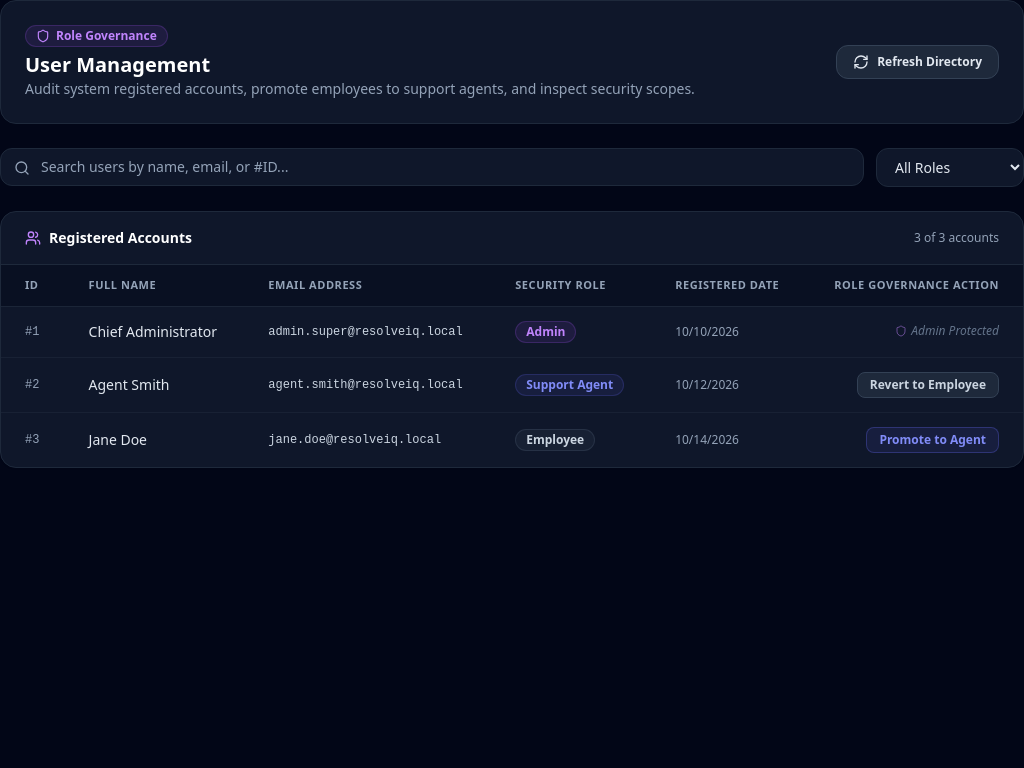
Scenario: ResolveIQ Batch 10 — Admin Dashboard & Operations Management › Phase 2 — User Management & Safe Role Governance › handles server rejection when updating role without mutating client state
The width and height of the screenshot is (1024, 768).
Check: the text "Jane Doe" is shown, box [65, 412, 244, 466]
Click "Promote to Agent"
Click the button "Promote to Agent" at (933, 440), box [866, 426, 999, 452]
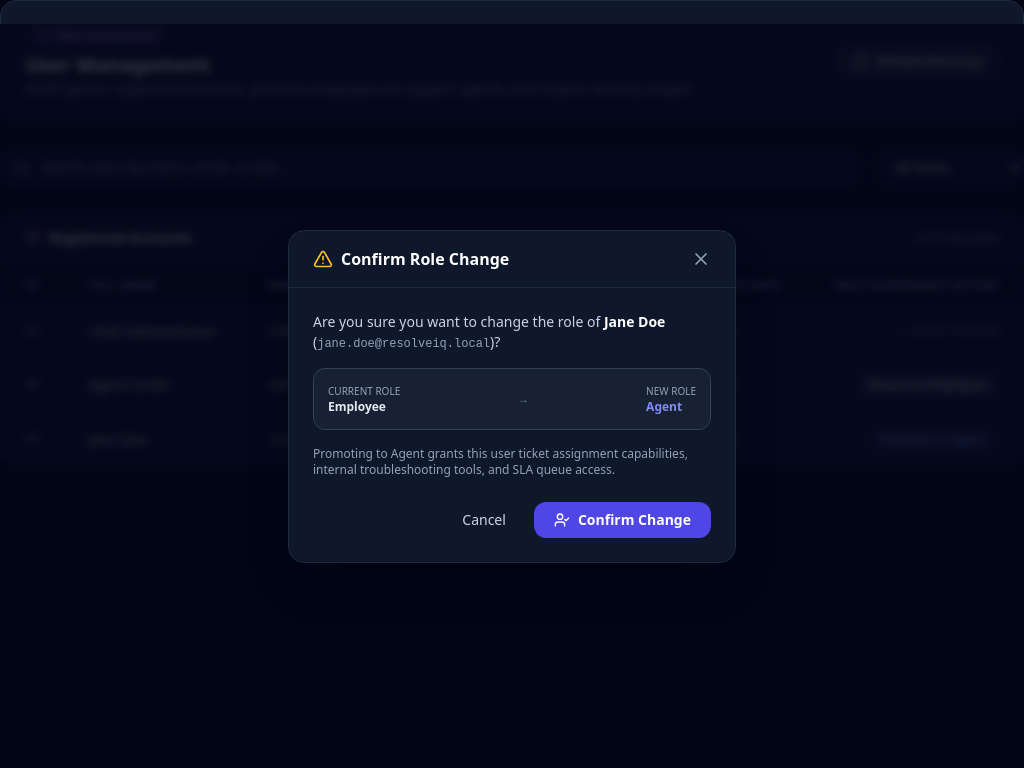
Click the button "Confirm Change" at (622, 520), box [534, 502, 711, 538]
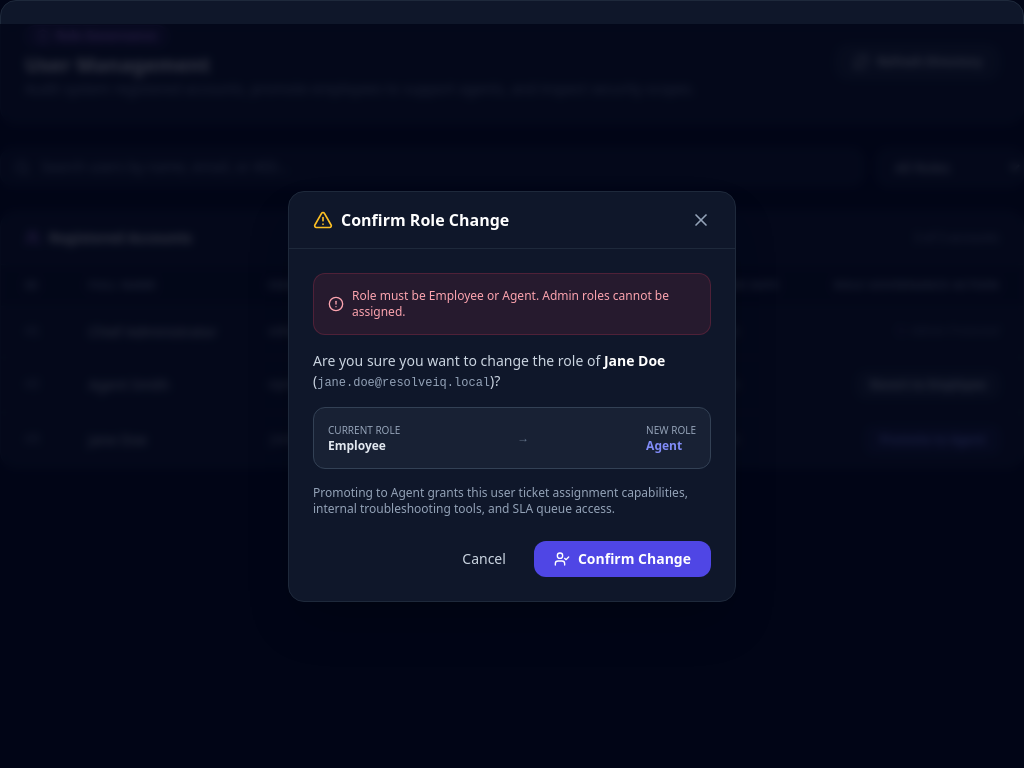
Check: the text "Role must be Employee or Agent. Admin roles cannot be assigned." is shown, box [352, 288, 696, 320]
